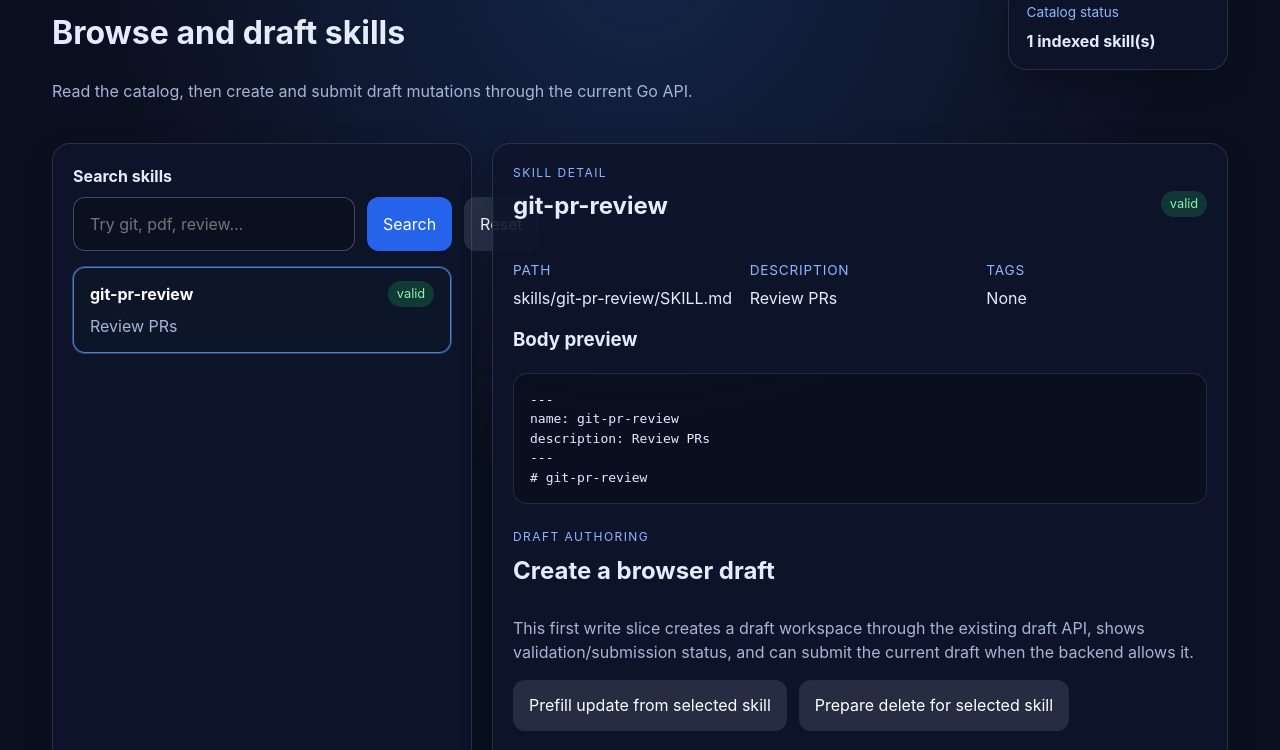
Scenario: App › creates and submits a draft from the browser form
The image size is (1280, 750).
Expected: the heading "Body preview" is shown, [513, 328, 637, 351]
Click the button "Prefill update from selected skill" at (650, 706), box [513, 680, 787, 731]
(page scrolled)
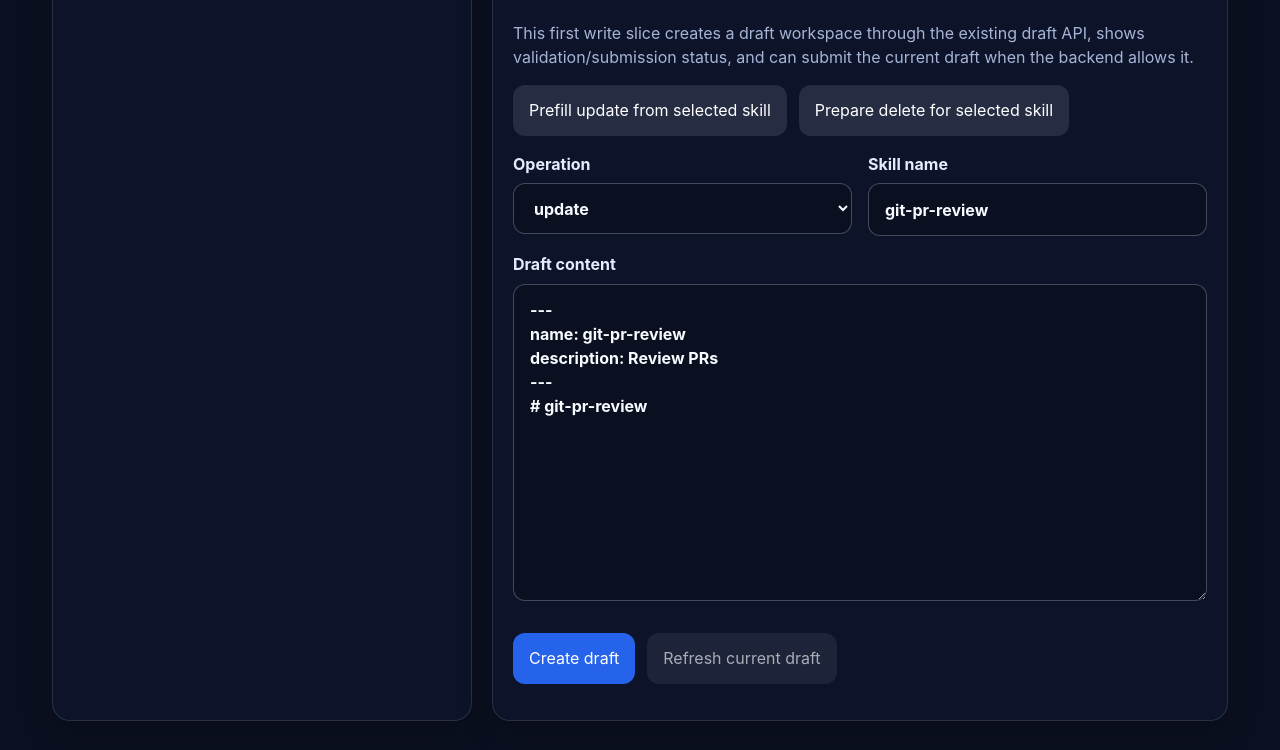
Click the button "Create draft" at (574, 658), box [513, 633, 635, 684]
(page scrolled)
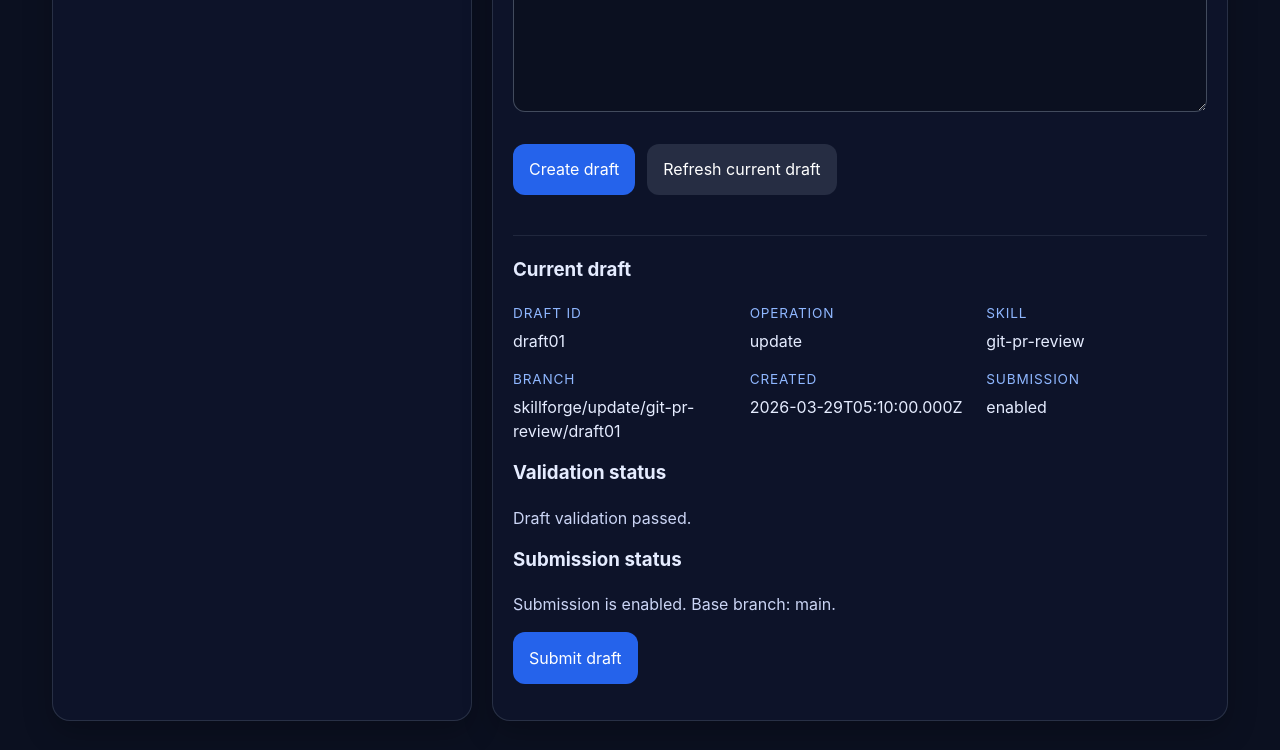
Expected: the heading "Current draft" is shown, [513, 258, 631, 281]
Expected: the text "draft01" is shown, [513, 331, 565, 351]
Expected: the text "Submission is enabled. Base branch: main." is shown, [513, 594, 836, 614]
Click the button "Submit draft" at (575, 658), box [513, 632, 638, 684]
(page scrolled)
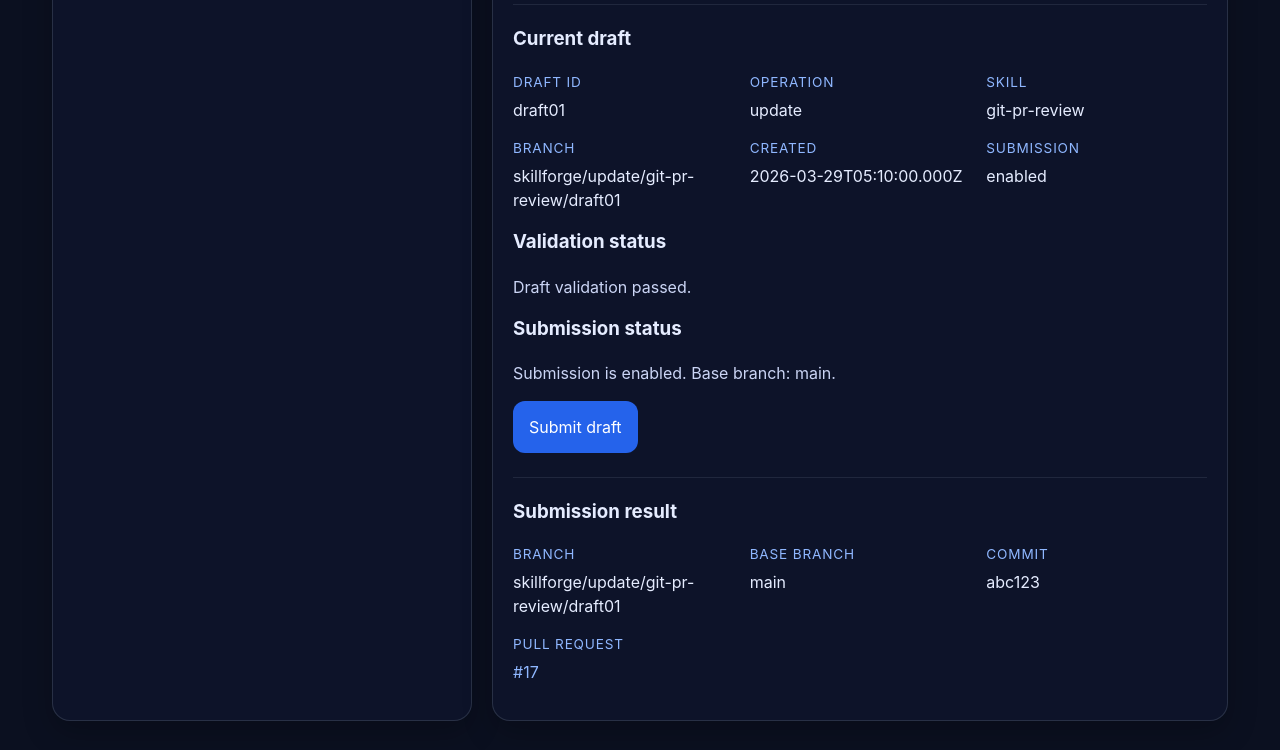
Expected: the heading "Submission result" is shown, [513, 500, 677, 523]
Expected: the text "abc123" is shown, [986, 572, 1040, 592]
